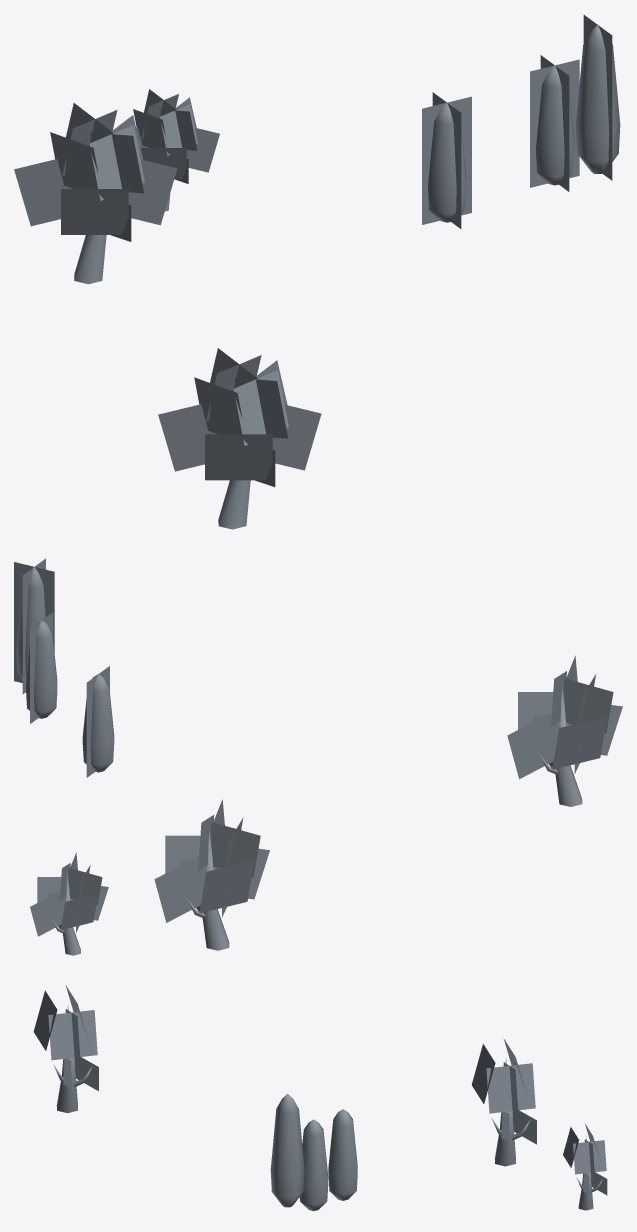
The model's file is gltf__Models__map__Village__startup__v_startup_mergedTree.glb.
3 renders of one model, top to bottom at view 1: azimuth 30°, elevation 25°; view 2: azimuth 150°, elevation 25°; view 3: azimuth 270°, elevation 25°, orthographic. The views are drawn at different scales.
Parts seen in each view (by area): view 1: v_startup_mergedTree; view 2: v_startup_mergedTree; view 3: v_startup_mergedTree.
Boxes of the visible parts, <box> form: v_startup_mergedTree: <box>14,15,620,529</box>; v_startup_mergedTree: <box>14,558,622,955</box>; v_startup_mergedTree: <box>33,985,607,1211</box>.
Size of the model in its own units: 6.13 by 2.67 by 7.21.
Materials: 1 (1 with a texture image).
